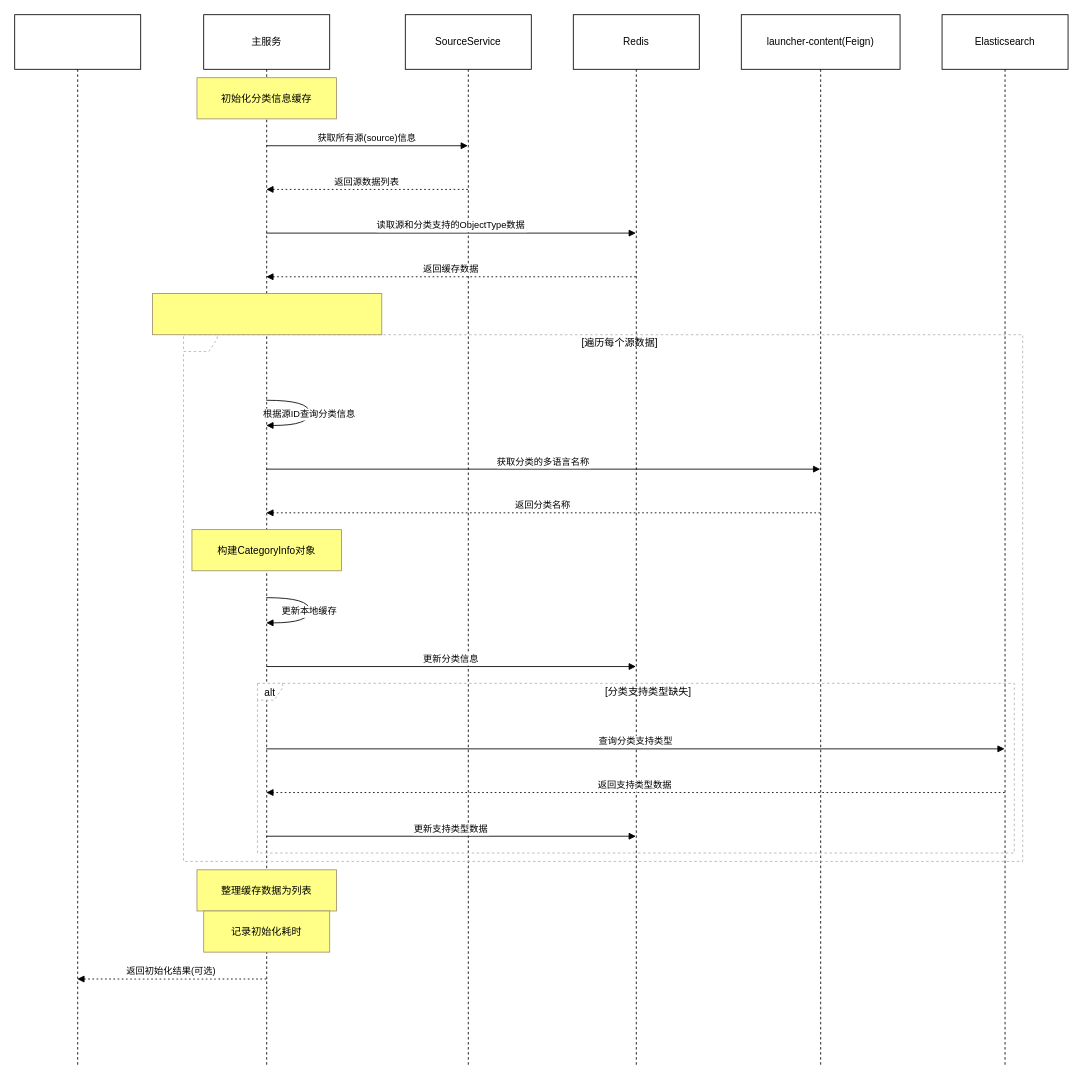
Some shapes in this 1083 by 1082 pixel diagram are drawn without their labels. Here are the shapes that lost their labels. From the top down, the box of each, then its label:
(152, 293, 382, 335): 构建本地缓存(ConcurrentHashMap)
(14, 14, 141, 1067): 客户端
(183, 334, 1023, 861): loop
